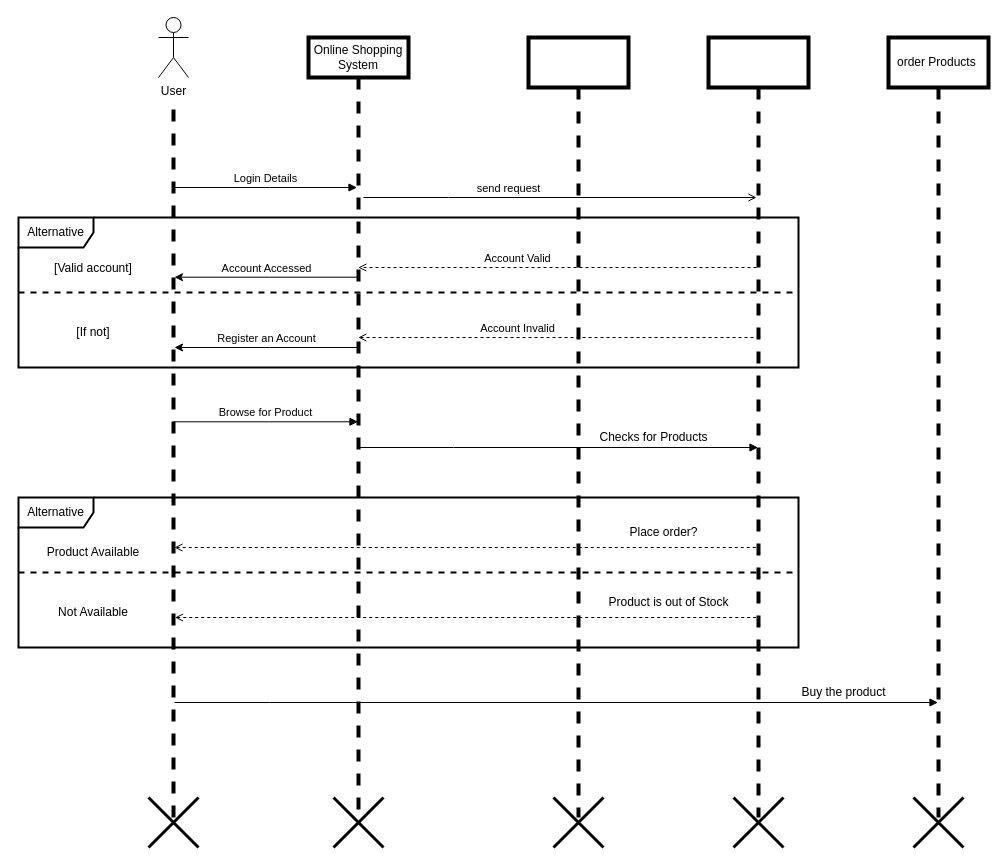
The diagram is 1007 pixels wide and 866 high, and some of its shapes have lost their labels. Here are the shapes that lost their labels. From the top down, the box of each, then its label:
(526, 35, 630, 819): System servers
(706, 35, 810, 819): Database
